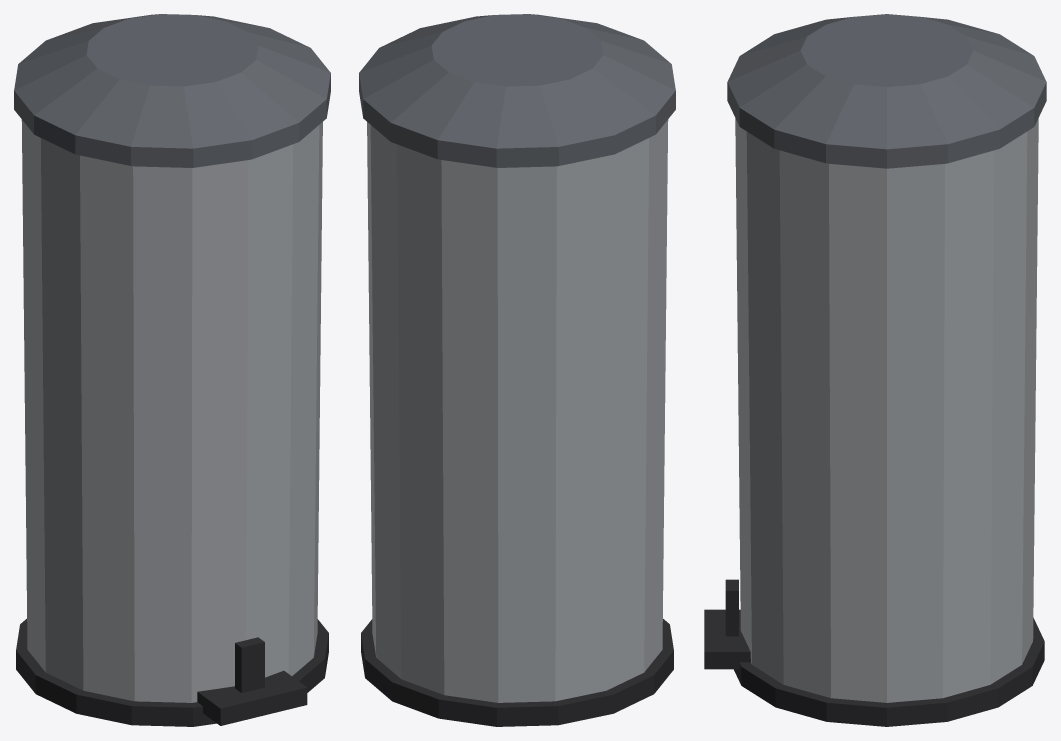
The model's file is FN_Bin_Pedal.glb.
The picture shows the model from 3 angles, left to right: view 1: azimuth 30°, elevation 25°; view 2: azimuth 150°, elevation 25°; view 3: azimuth 270°, elevation 25°; orthographic projection.
Parts seen in each view (by area): view 1: FN_Bin_Pedal; view 2: FN_Bin_Pedal; view 3: FN_Bin_Pedal.
Boxes of the visible parts, bbox=[...] form: FN_Bin_Pedal: bbox=[14, 14, 330, 726]; FN_Bin_Pedal: bbox=[359, 14, 675, 726]; FN_Bin_Pedal: bbox=[704, 14, 1046, 726].
Bounding box in the file's own units: 0.332 × 0.7 × 0.356.
Materials: 1 (1 with a texture image).
